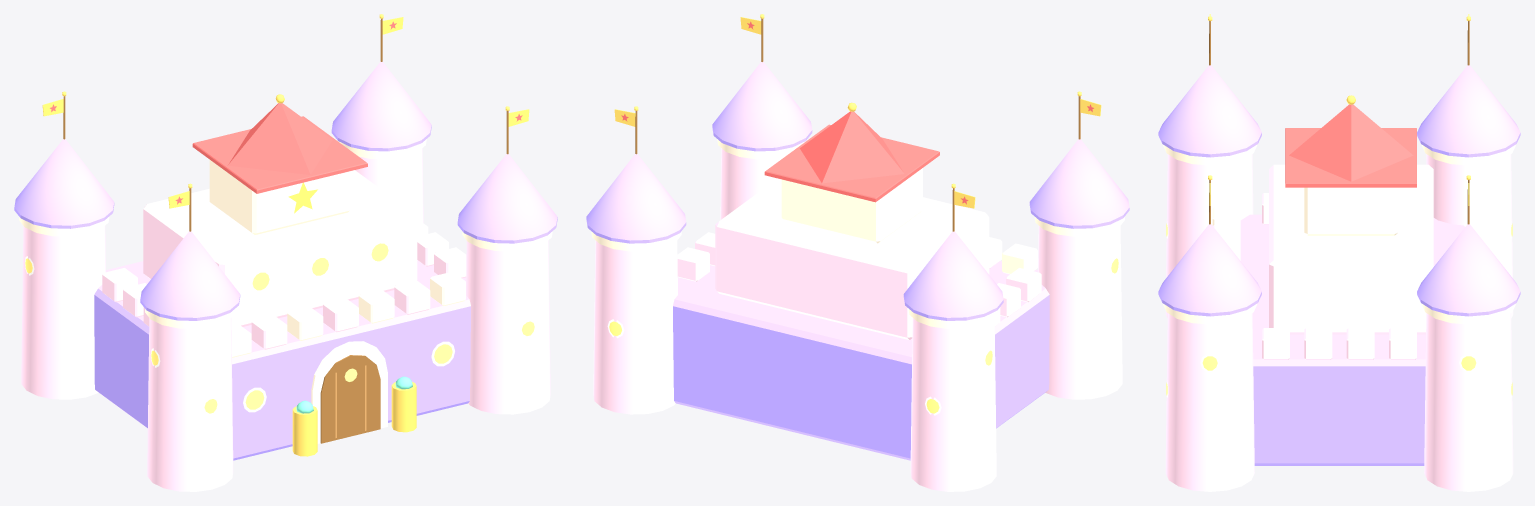
File: toy-castle.glb
3 views of the same model, side by side, from view 1: azimuth 30°, elevation 25°; view 2: azimuth 150°, elevation 25°; view 3: azimuth 270°, elevation 25° (orthographic). The views are drawn at different scales.
Parts seen in each view (by area): view 1: toy-castle; view 2: toy-castle; view 3: toy-castle.
Part boxes in pixels (left/top/right/bottom): toy-castle: left=14, top=14, right=557, bottom=491; toy-castle: left=586, top=14, right=1129, bottom=491; toy-castle: left=1158, top=14, right=1520, bottom=491.
Bounding box in the file's own units: 40.8 × 27.97 × 30.8.
